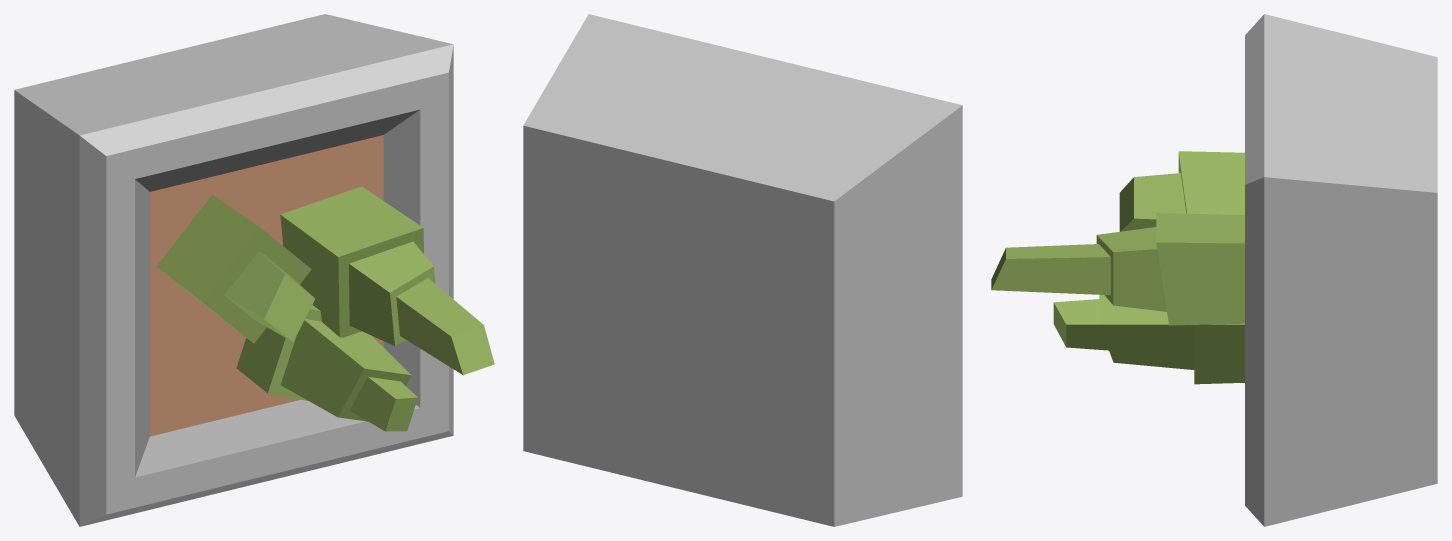
File: Deco_2.obj
3 renders of one model, left to right at view 1: azimuth 30°, elevation 25°; view 2: azimuth 150°, elevation 25°; view 3: azimuth 270°, elevation 25°, orthographic. The views are drawn at different scales.
Visible parts, largest first — view 1: Deco_2; view 2: Deco_2; view 3: Deco_2.
Part boxes in pixels (x1,y1,x2,y2): Deco_2: [14, 14, 494, 526]; Deco_2: [523, 14, 962, 526]; Deco_2: [991, 14, 1437, 526].
Size of the model in its own units: 0.0798 by 0.0798 by 0.0922.
